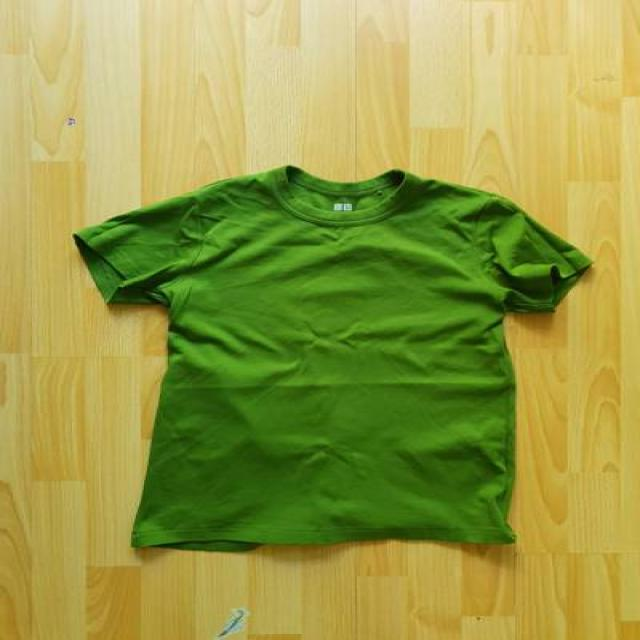shirt: (73, 168, 596, 550)
